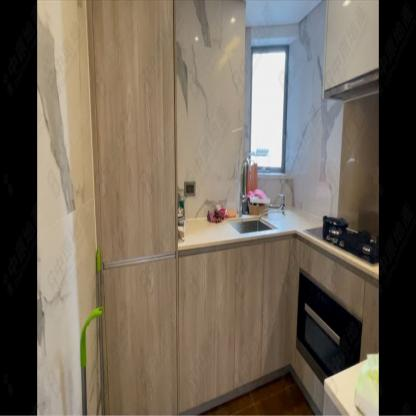Cupboard: (92, 0, 178, 414), (178, 233, 296, 413), (323, 0, 378, 89)
Faucet: (239, 156, 250, 214)
Oven: (296, 271, 362, 384)
Sink: (227, 215, 277, 234)
Stove: (302, 217, 381, 264)
